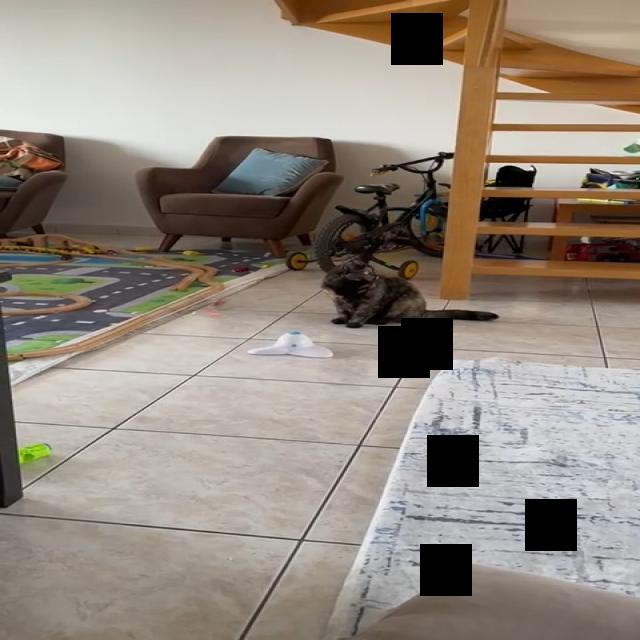authorized: (318, 253, 498, 328)
